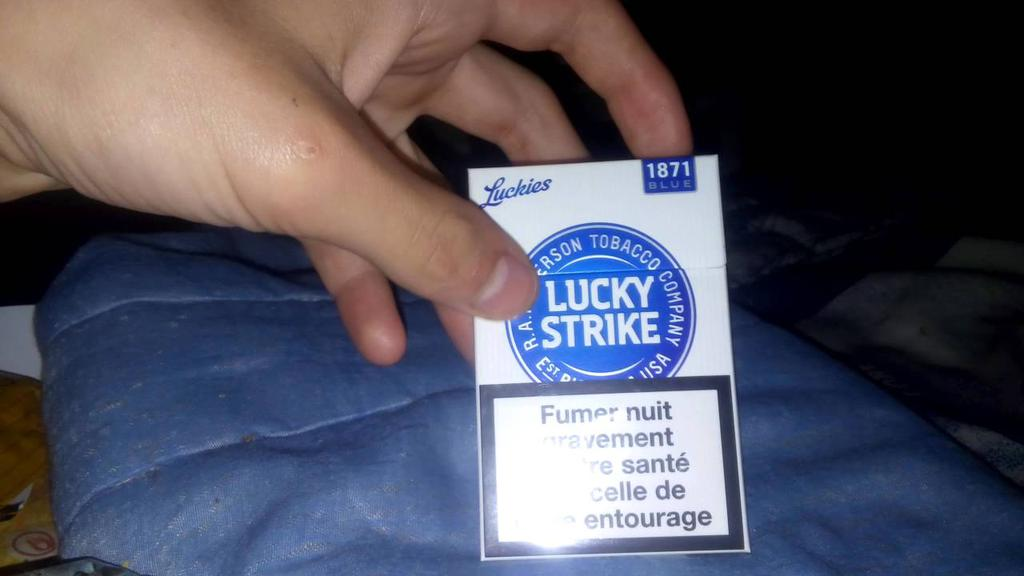lucky_strike_blue: (477, 165, 715, 553)
